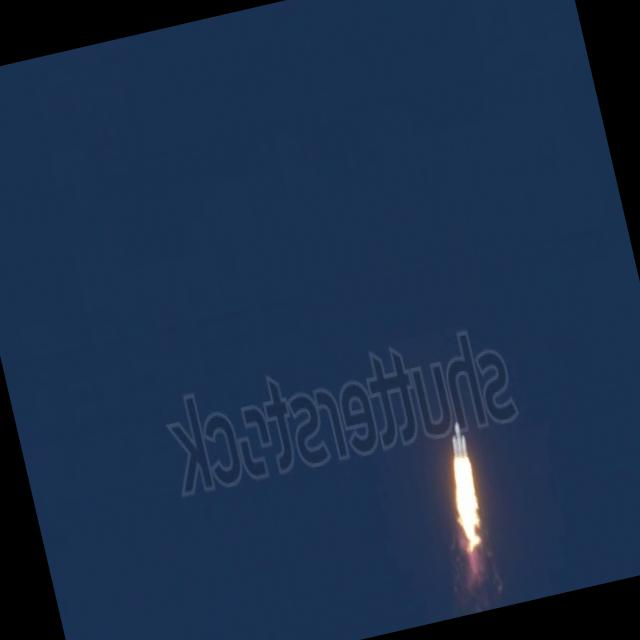rocket: (439, 422, 487, 527)
